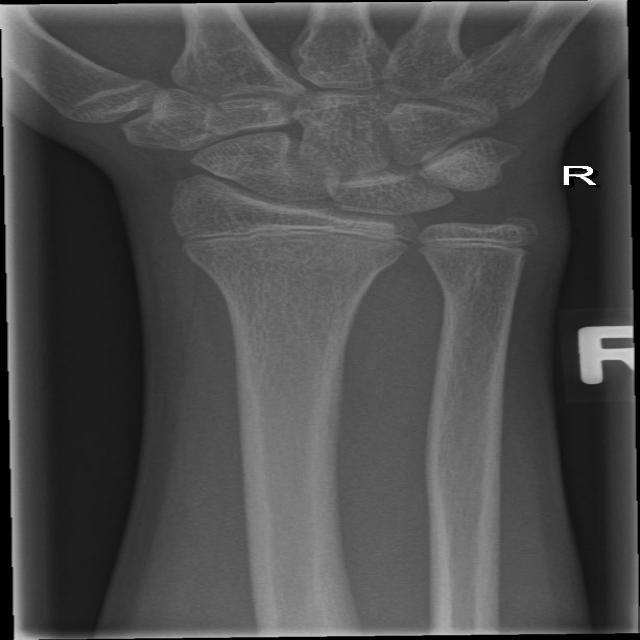fracture: (162, 212, 432, 266), (411, 224, 548, 266)
